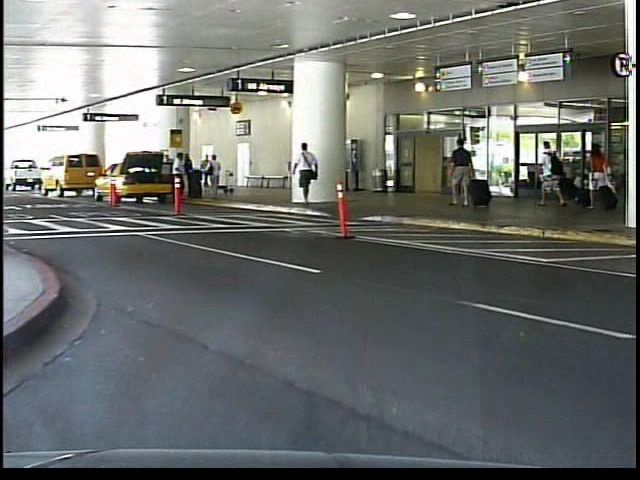person: (535, 138, 572, 217), (585, 133, 617, 220), (449, 134, 479, 210), (294, 140, 326, 211)
